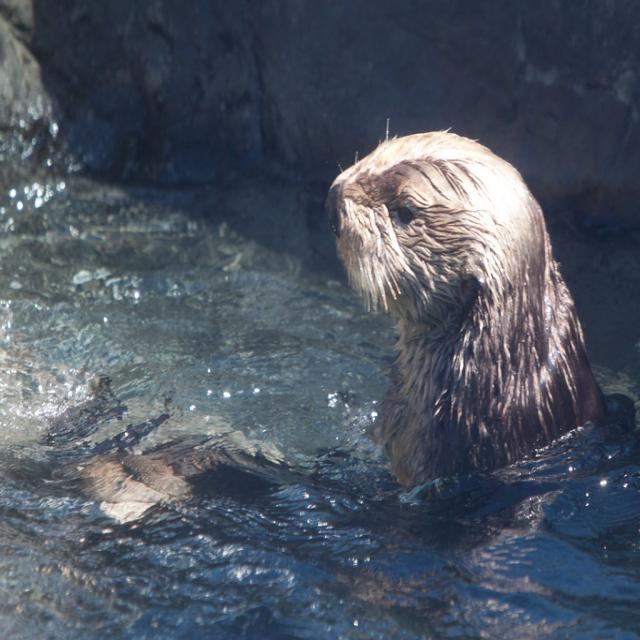otter: (326, 132, 585, 471)
